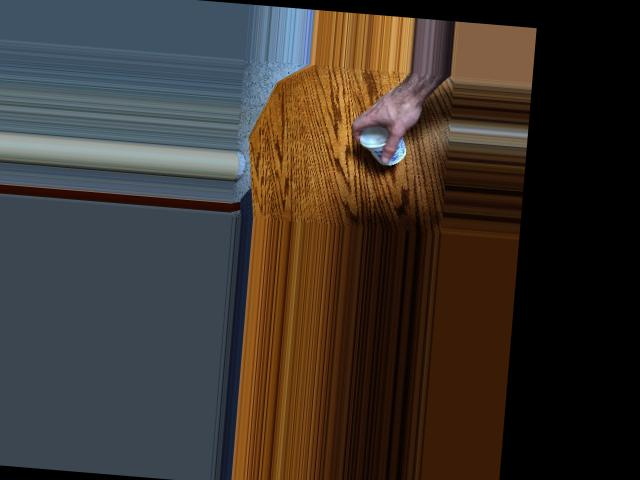cotage: (347, 120, 403, 168)
